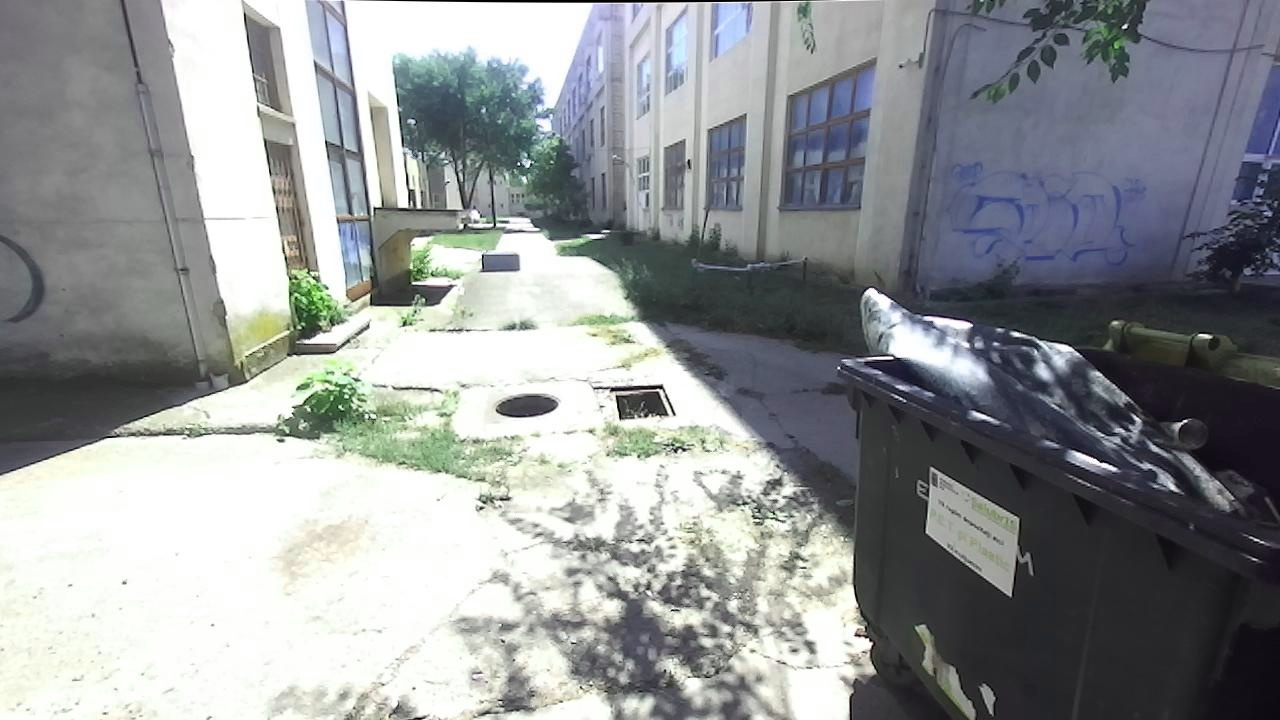drain: (606, 383, 678, 419), (491, 389, 563, 418)
